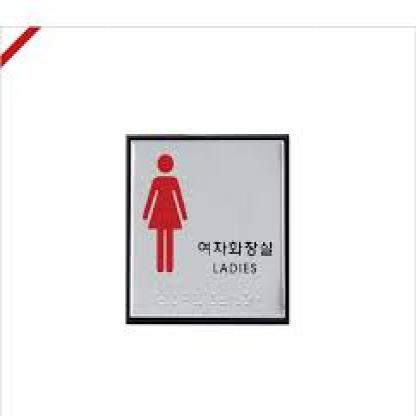toilet: (145, 153, 188, 275)
